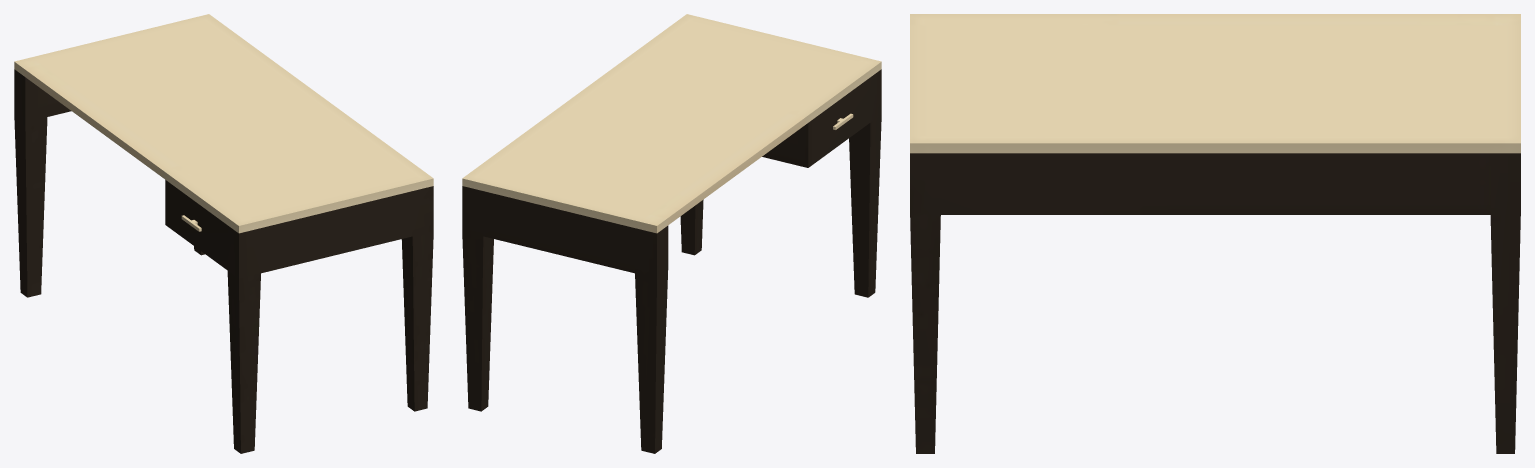
The picture shows the model from 3 angles, left to right: view 1: azimuth 30°, elevation 25°; view 2: azimuth 150°, elevation 25°; view 3: azimuth 270°, elevation 25°; orthographic projection. The views are drawn at different scales.
Visible parts, largest first — view 1: desk_low; view 2: desk_low; view 3: desk_low.
Boxes of the visible parts, x1,y1,x2,y2 form: desk_low: [14, 14, 433, 453]; desk_low: [462, 14, 881, 453]; desk_low: [910, 14, 1520, 453].
Bounding box in the file's own units: 1.03 × 1.13 × 2.
1 material, 1 textured.
